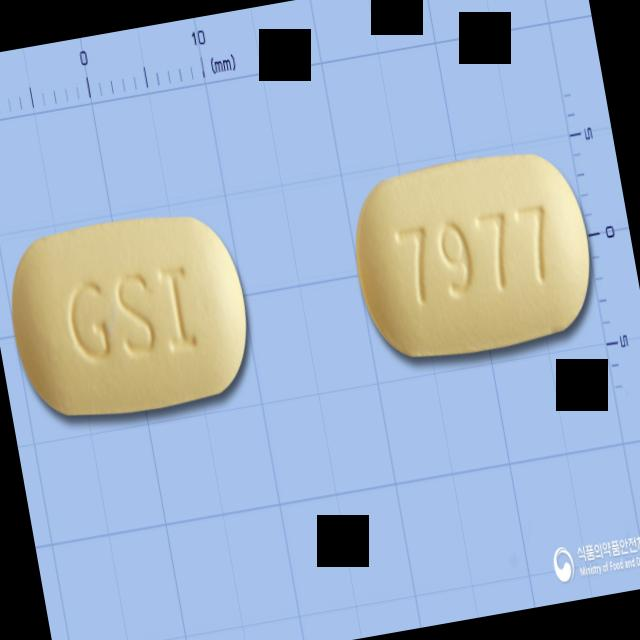Sovaldi Tab: (343, 143, 604, 370), (0, 203, 260, 430)
